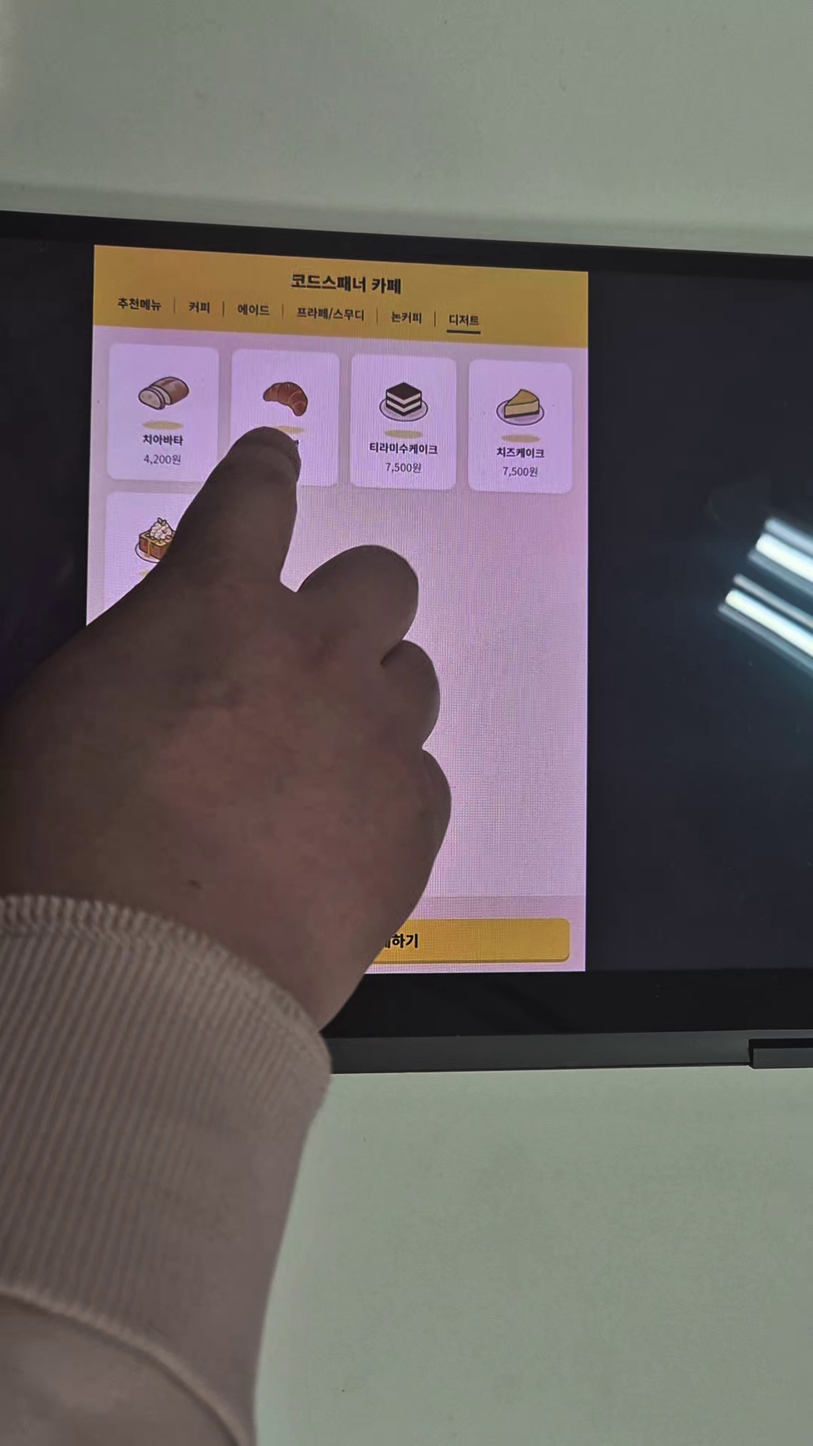category_tab: (296, 307, 366, 322), (118, 296, 161, 311), (236, 303, 270, 316), (390, 311, 423, 324), (447, 314, 480, 327), (189, 300, 211, 314)
menu_back: (109, 344, 219, 479), (233, 349, 337, 486), (353, 355, 457, 489), (473, 361, 573, 493)
menu_name: (368, 442, 438, 455), (142, 433, 184, 446), (496, 447, 545, 457)
menu_price: (143, 453, 182, 467), (502, 466, 539, 479), (385, 462, 421, 473)
